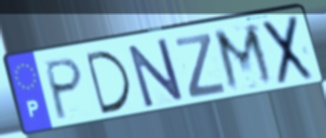D: (82, 48, 134, 117)
M: (211, 21, 279, 95)
N: (126, 35, 187, 110)
P: (43, 56, 85, 124)
X: (260, 13, 316, 88)
Z: (173, 31, 228, 100)
